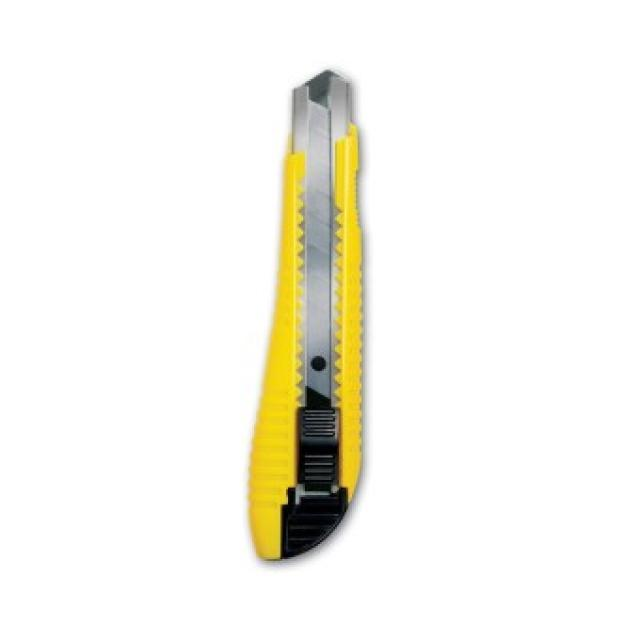cutter: (219, 60, 401, 570)
